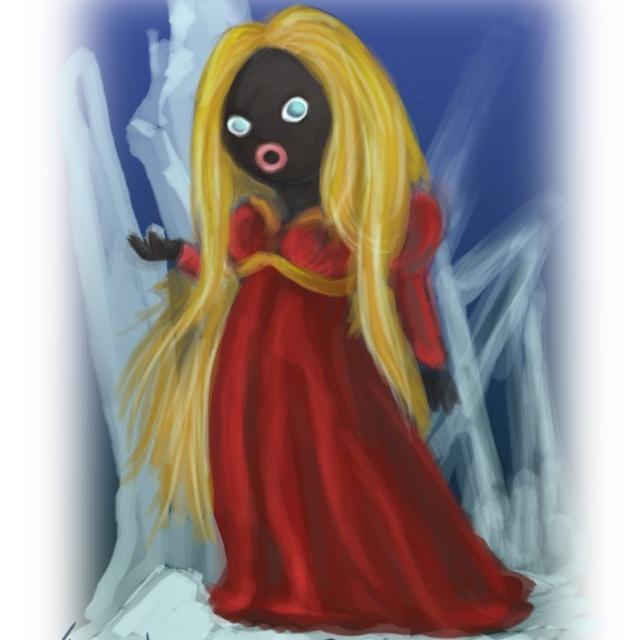Jynx: (162, 0, 456, 640)
